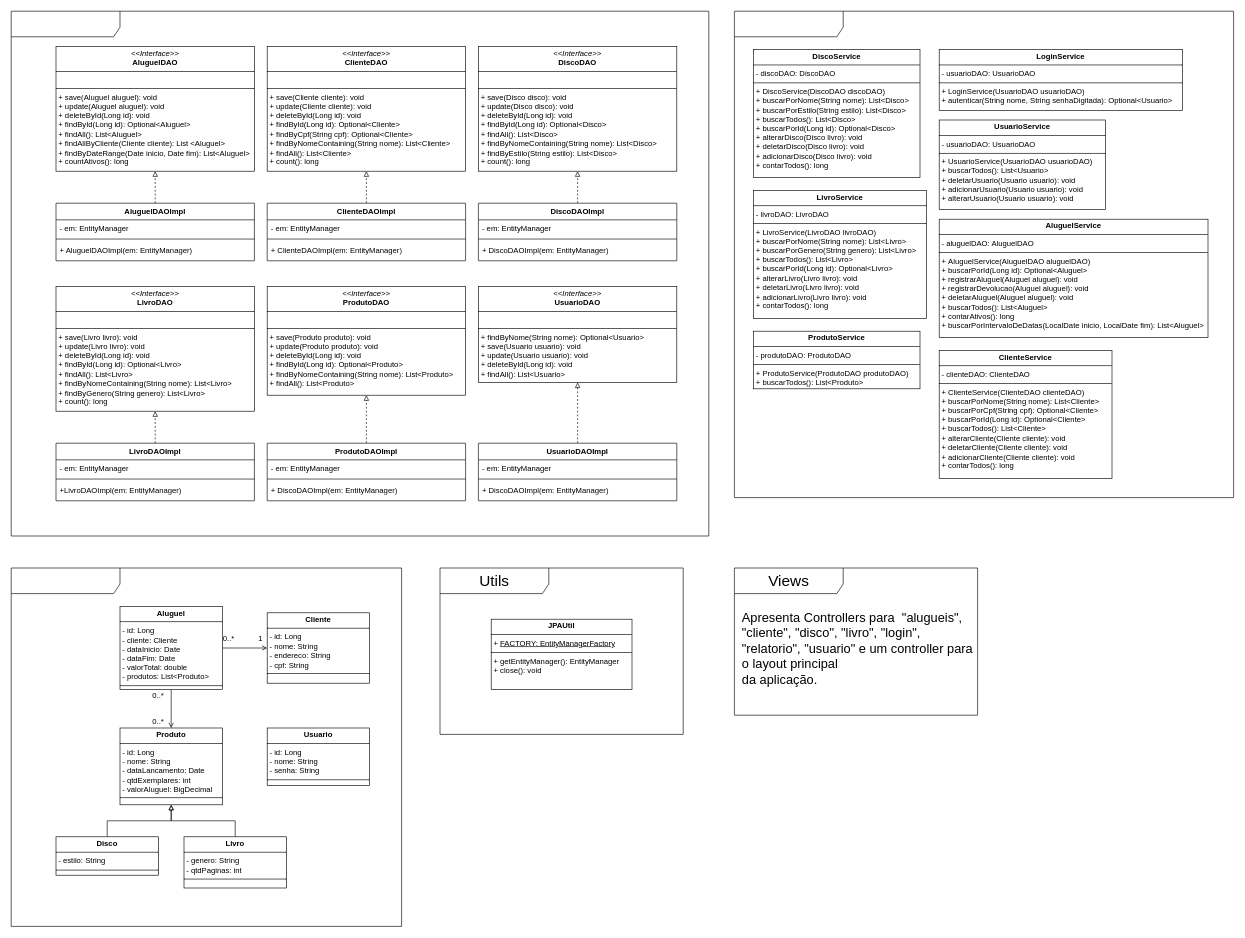
This 1245x938 diagram has some shape labels left out. Here are the shapes that lost their labels. From the top down, the centre of each, then its label:
At point 360,273: "DAO".
At point 984,254: "Services".
At point 206,746: "Entities".
